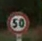limite 50: (6, 10, 30, 33)
